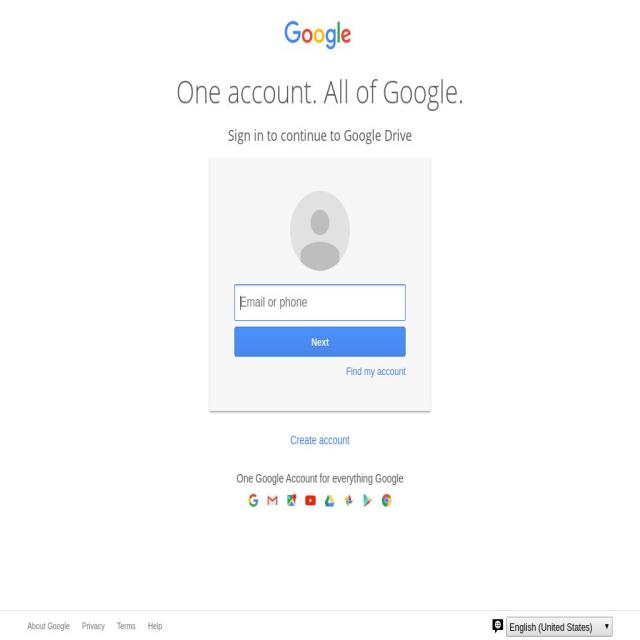button: (346, 364, 406, 378)
field: (234, 284, 406, 321), (234, 326, 406, 356), (507, 616, 612, 636)
heading: (28, 69, 612, 113), (28, 125, 612, 145)
image: (290, 191, 350, 271), (248, 492, 392, 508), (284, 21, 356, 52), (490, 617, 504, 634)
link: (290, 432, 349, 447), (27, 620, 72, 632), (82, 620, 107, 632), (117, 620, 138, 632), (148, 620, 162, 632)
text: (208, 471, 432, 485)
